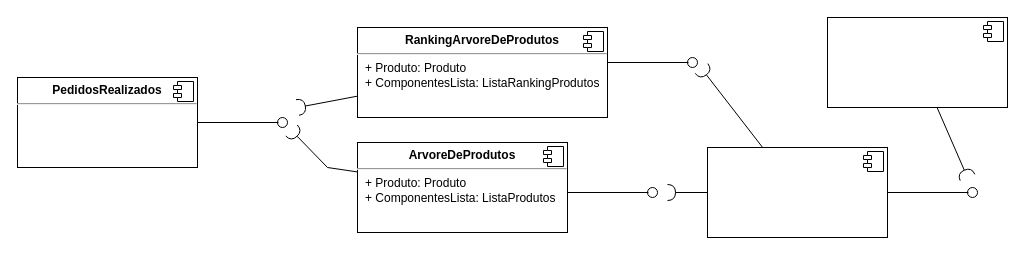
Image size: 1025x255. Some labels were removed from this diagram. The shapes that lost their labels are listed below. From the top down, each one's centre as x and y in pixels, then its label:
At (x=917, y=62): "CarrinhoDeCompras + ListaProdutos: Produto".
At (x=797, y=192): "Sugestor + Produto : Produto".
